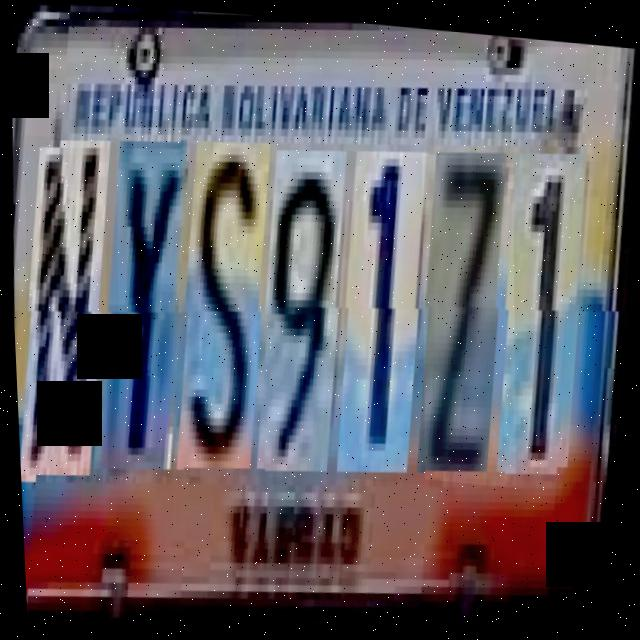1: (329, 146, 443, 482), (489, 149, 602, 485)
9: (249, 145, 362, 481)
N: (11, 134, 127, 484)
S: (167, 136, 286, 480)
Y: (92, 135, 206, 478)
Z: (409, 147, 523, 483)
